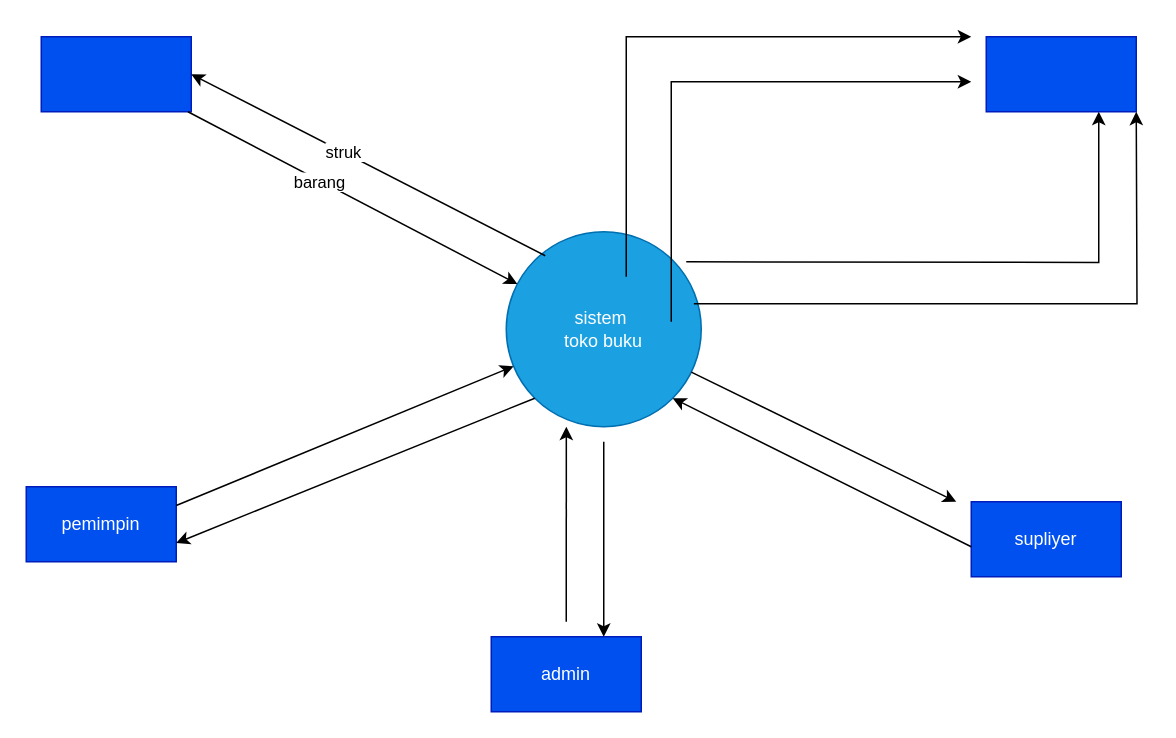
Image size: 1176x738. Some labels were removed from this diagram. The centre of each missing label's shape, as x and y in pixels:
"kasir" belongs at pixel 1060 73.
"pembeli" belongs at pixel 115 73.
